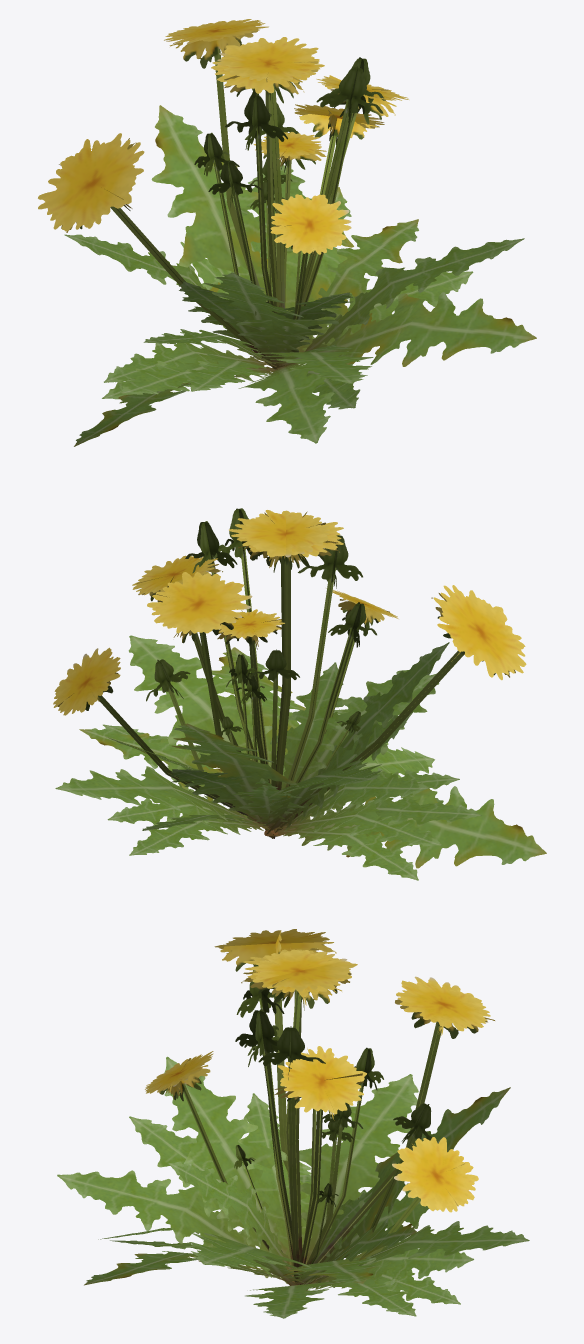
The model's file is dandelions.glb.
The picture shows the model from 3 angles, top to bottom: view 1: azimuth 30°, elevation 25°; view 2: azimuth 150°, elevation 25°; view 3: azimuth 270°, elevation 25°; orthographic projection. The views are drawn at different scales.
Parts seen in each view (by area): view 1: Dandelion.003_Dandelion_Mat_0, Dandelion.002_Dandelion_Mat_0, Dandelion.001_Dandelion_Mat_0, Dandelion.005_Dandelion_Mat_0; view 2: Dandelion.003_Dandelion_Mat_0, Dandelion.001_Dandelion_Mat_0, Dandelion.002_Dandelion_Mat_0, Dandelion.005_Dandelion_Mat_0; view 3: Dandelion.003_Dandelion_Mat_0, Dandelion.002_Dandelion_Mat_0, Dandelion.001_Dandelion_Mat_0, Dandelion.005_Dandelion_Mat_0.
Boxes of the visible parts, x1,y1,x2,y2 form: Dandelion.003_Dandelion_Mat_0: (104,19,536,443); Dandelion.002_Dandelion_Mat_0: (38,37,473,369); Dandelion.001_Dandelion_Mat_0: (74,48,408,446); Dandelion.005_Dandelion_Mat_0: (102,57,524,409); Dandelion.003_Dandelion_Mat_0: (53,508,442,855); Dandelion.001_Dandelion_Mat_0: (55,510,546,868); Dandelion.002_Dandelion_Mat_0: (103,510,526,838); Dandelion.005_Dandelion_Mat_0: (106,521,482,880); Dandelion.003_Dandelion_Mat_0: (57,976,494,1304); Dandelion.002_Dandelion_Mat_0: (214,929,510,1318); Dandelion.001_Dandelion_Mat_0: (145,949,529,1316); Dandelion.005_Dandelion_Mat_0: (110,964,416,1285).
Size of the model in its own units: 0.3786 by 0.2396 by 0.3615.
1 material, 1 textured.
